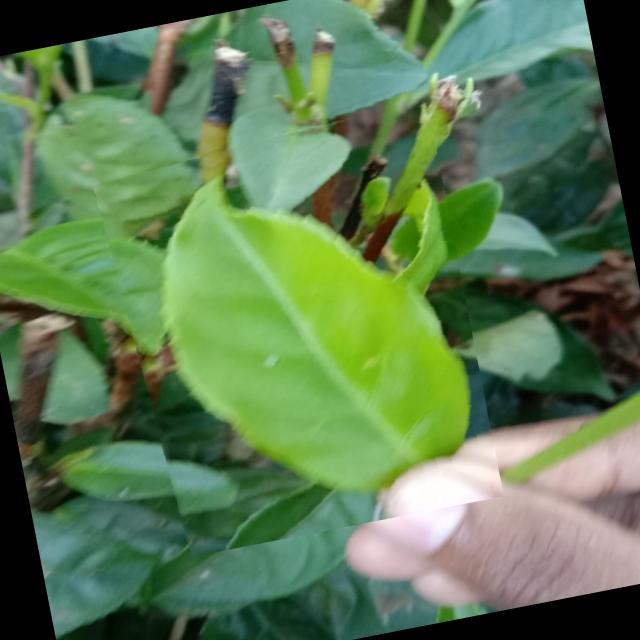Category C 4-7 days: (89, 98, 504, 562)
